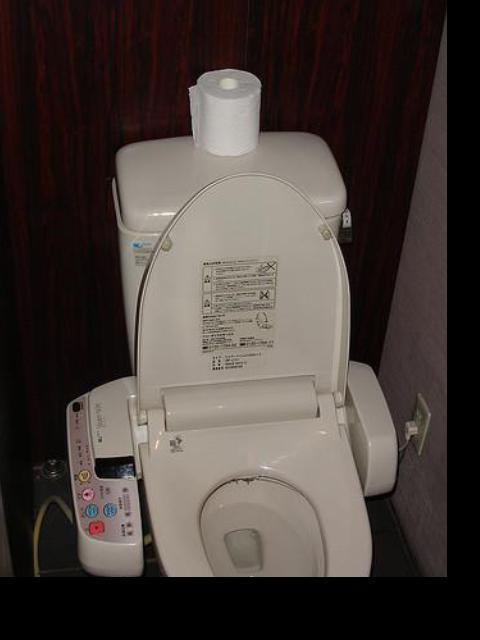Sanitario: (73, 127, 403, 640)
